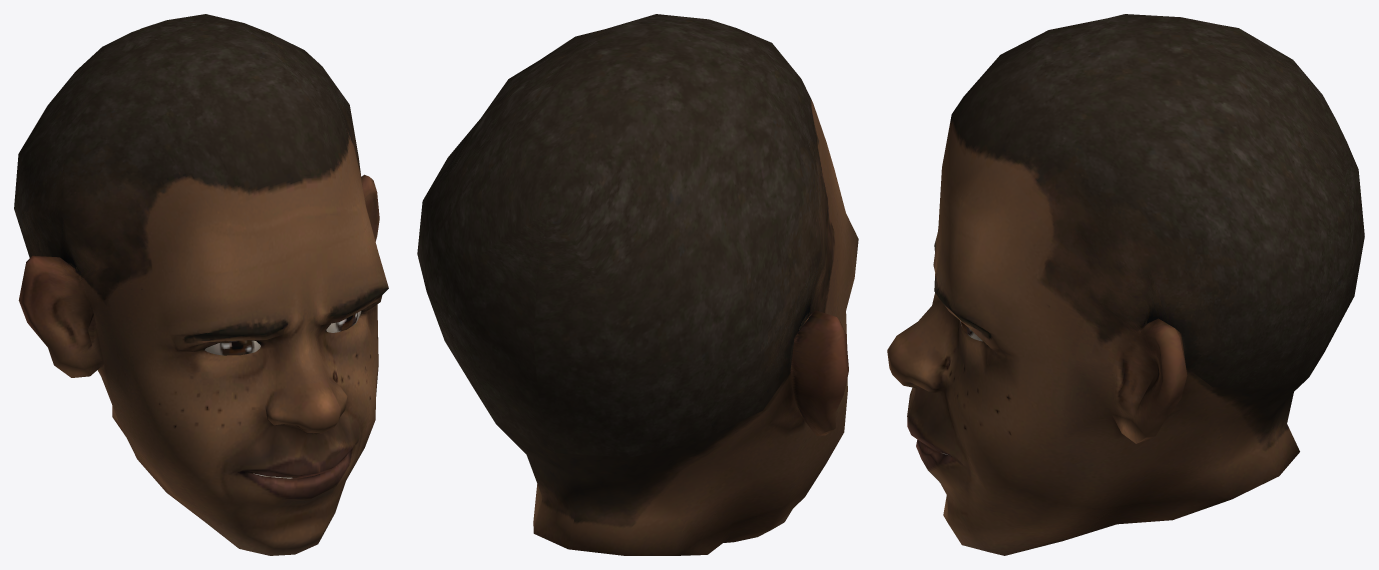
Rendered from obmhead.obj.
The picture shows the model from 3 angles, left to right: view 1: azimuth 30°, elevation 25°; view 2: azimuth 150°, elevation 25°; view 3: azimuth 270°, elevation 25°; orthographic projection. The views are drawn at different scales.
Visible parts, largest first — view 1: Barak_Obama_mesh_Barak_Obama; view 2: Barak_Obama_mesh_Barak_Obama; view 3: Barak_Obama_mesh_Barak_Obama.
Part boxes in pixels (box(x1,y1,x2,y2)): Barak_Obama_mesh_Barak_Obama: box(14, 14, 388, 555); Barak_Obama_mesh_Barak_Obama: box(417, 14, 858, 555); Barak_Obama_mesh_Barak_Obama: box(887, 14, 1364, 555).
Size of the model in its own units: 0.8122 by 0.9985 by 0.8439.
Materials: 1 (1 with a texture image).
